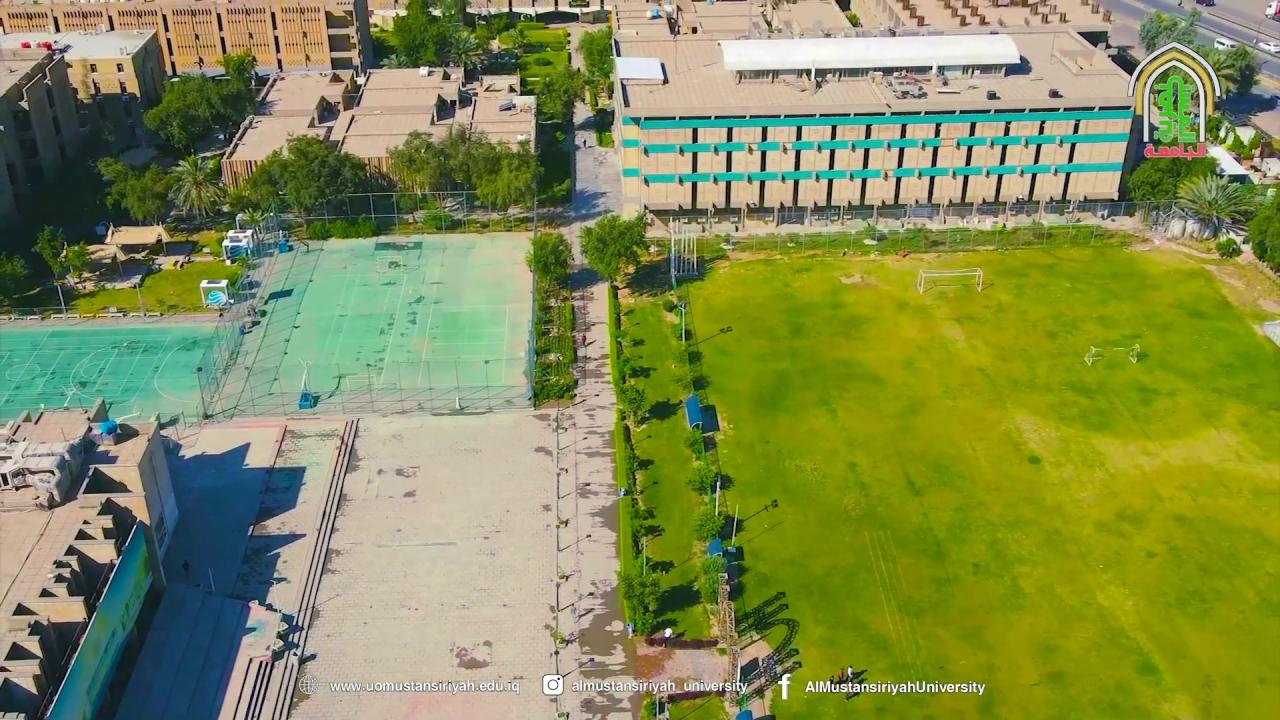car: (1253, 38, 1279, 55), (1213, 38, 1237, 51), (1264, 0, 1279, 19), (1196, 0, 1215, 7)
fountain: (683, 393, 720, 434), (684, 393, 704, 430)
person: (662, 626, 672, 647), (846, 664, 854, 683), (837, 667, 844, 682)
tree: (385, 120, 544, 228), (578, 210, 648, 419), (247, 130, 366, 228), (524, 229, 577, 408), (528, 62, 591, 205), (141, 72, 227, 156), (1124, 154, 1218, 224), (1172, 171, 1256, 239), (472, 138, 542, 215), (371, 1, 452, 67), (94, 155, 169, 226), (384, 128, 441, 219), (578, 210, 647, 285), (163, 152, 226, 221), (1191, 42, 1258, 100), (614, 564, 662, 638), (31, 223, 69, 315), (530, 62, 587, 122), (1136, 6, 1200, 55), (576, 23, 614, 104), (1246, 188, 1279, 272), (524, 229, 573, 284), (475, 167, 530, 215), (669, 345, 711, 403), (447, 28, 486, 87), (627, 501, 664, 558), (1222, 43, 1260, 96), (692, 553, 726, 606), (614, 379, 651, 426), (221, 45, 257, 88), (0, 251, 27, 307), (684, 457, 717, 501), (1224, 130, 1262, 167), (691, 502, 725, 542), (62, 240, 93, 279), (684, 422, 706, 459), (1214, 234, 1241, 258)
